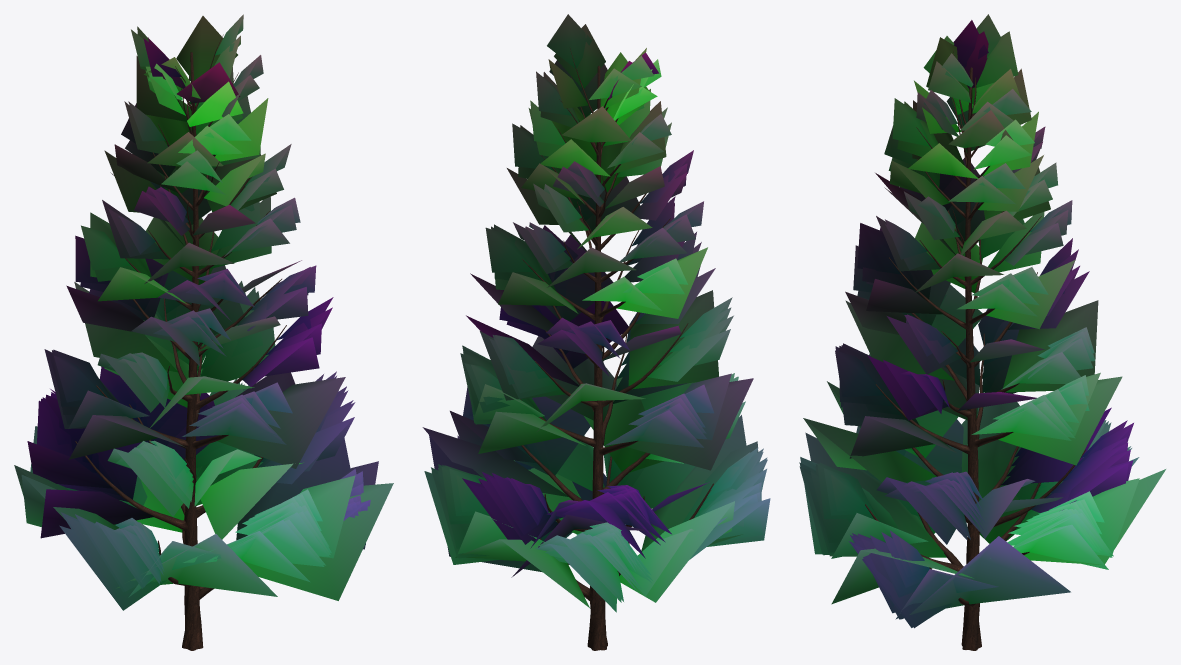
The model's file is spruce.fbx.
The picture shows the model from 3 angles, left to right: view 1: azimuth 30°, elevation 25°; view 2: azimuth 150°, elevation 25°; view 3: azimuth 270°, elevation 25°; orthographic projection. The views are drawn at different scales.
Visible parts, largest first — view 1: Tree_1, Tree_0; view 2: Tree_1, Tree_0; view 3: Tree_1, Tree_0.
Boxes of the visible parts, x1,y1,x2,y2 form: Tree_1: [14, 14, 393, 610]; Tree_0: [75, 34, 286, 650]; Tree_1: [422, 14, 770, 612]; Tree_0: [520, 48, 713, 650]; Tree_1: [799, 14, 1165, 628]; Tree_0: [865, 50, 1085, 650].
Bounding box in the file's own units: 57.36 × 106 × 57.6.
